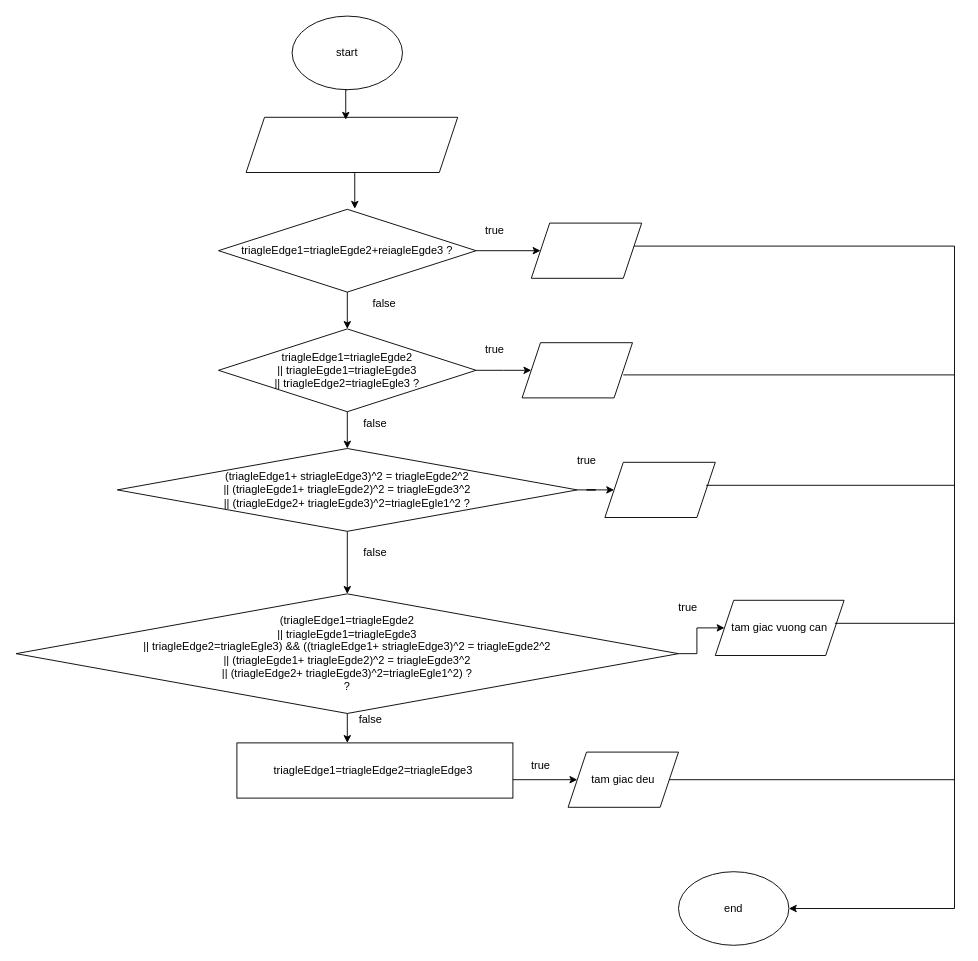
This 978x961 diagram has some shape labels left out. Each missing label, with the centre of its shape:
tam giac can: the point at 576,370
tam giac thuong: the point at 586,250
tam giac vuong: the point at 659,489
triagleEdge1, triagleEdge2, triagleEdge3: the point at 351,144
